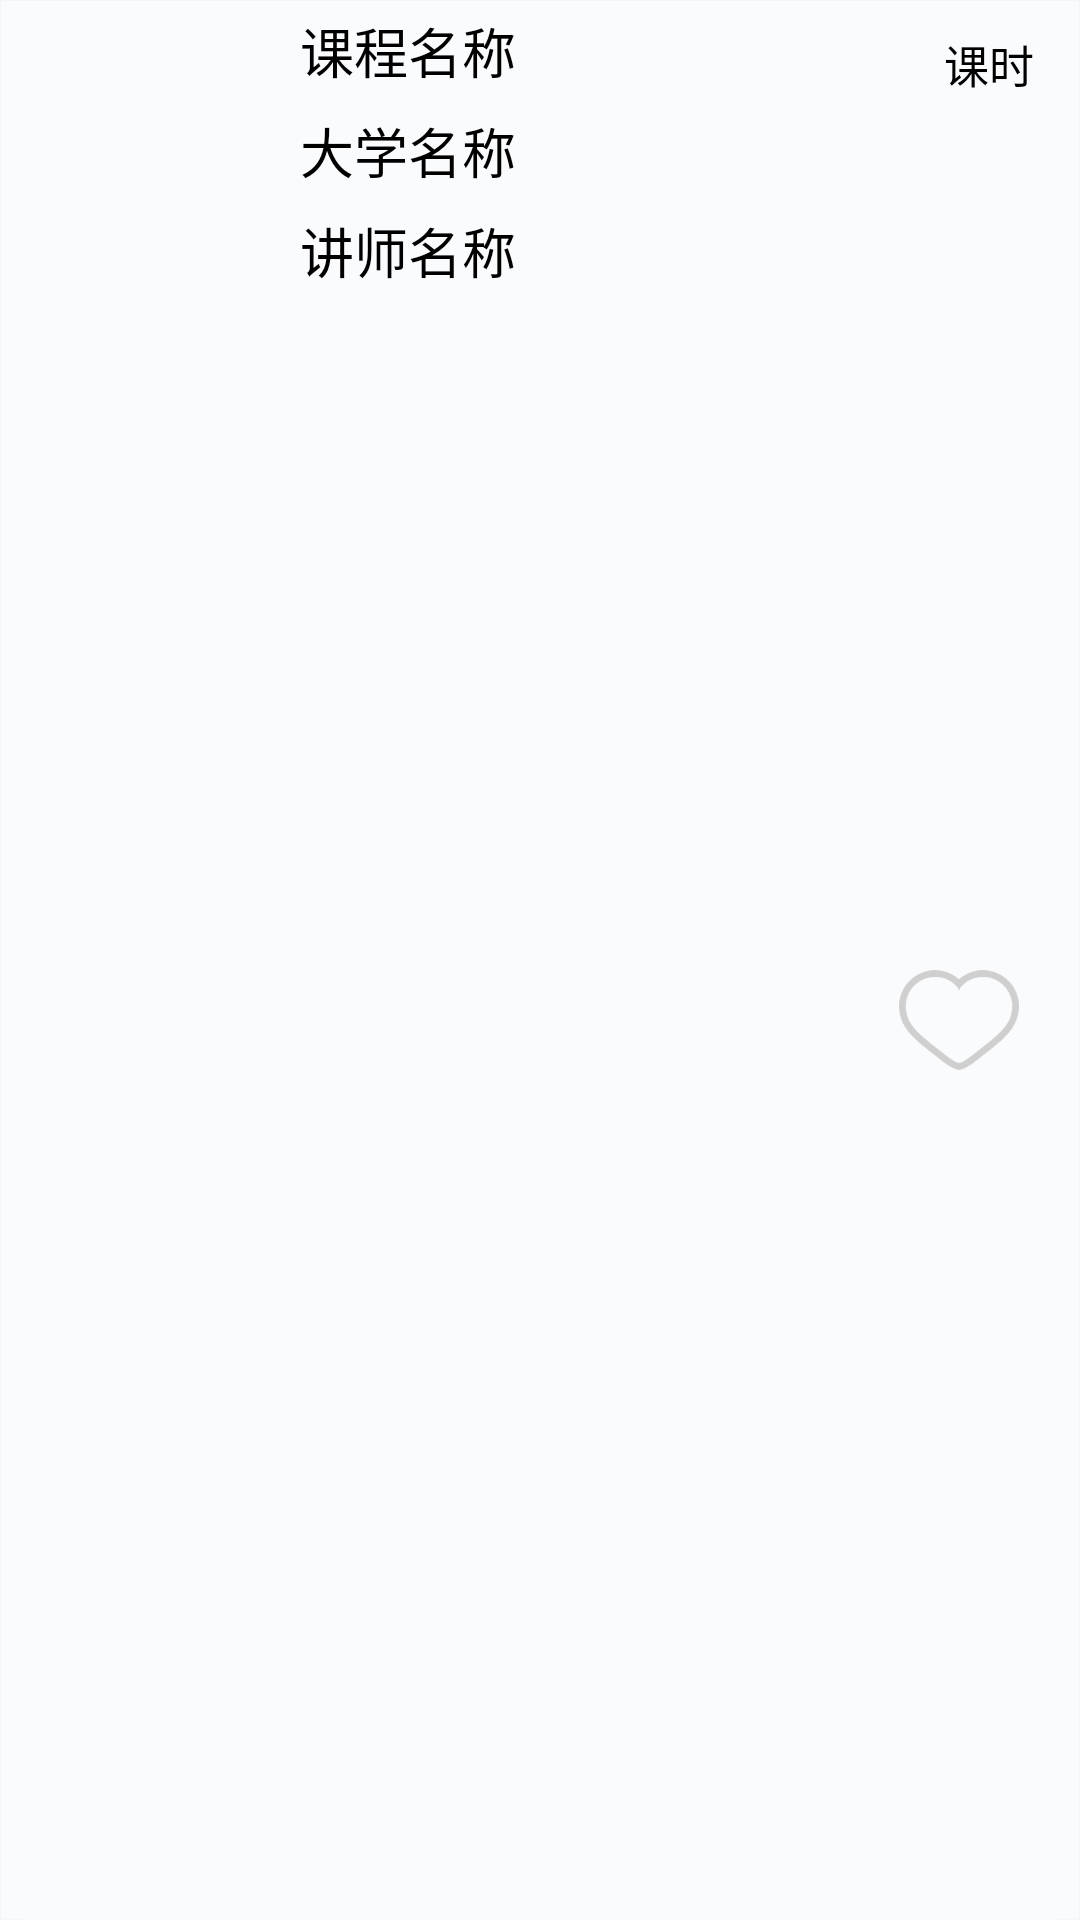

Locate icon controls on the screen. Image size 1080 x 1920, boxes as (left=x1, top=y1, right=x2, bottom=y2).
heart: (left=899, top=970, right=1019, bottom=1070)
